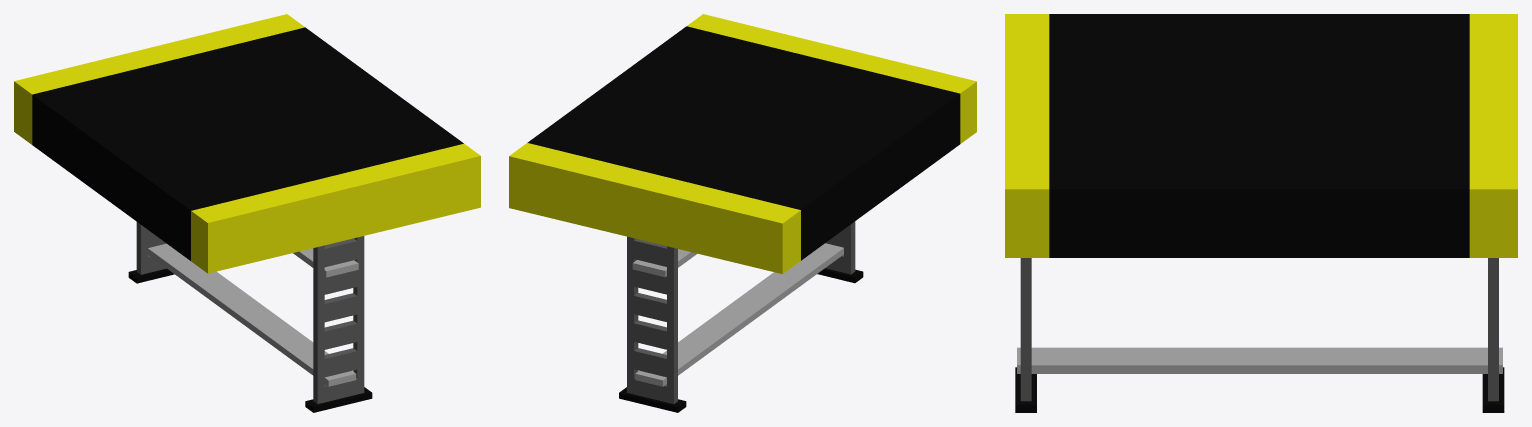
The model's file is ConveyorBeltMidWithStand.fbx.
3 renders of one model, left to right at view 1: azimuth 30°, elevation 25°; view 2: azimuth 150°, elevation 25°; view 3: azimuth 270°, elevation 25°, orthographic. The views are drawn at different scales.
Parts seen in each view (by area): view 1: polySurface49; view 2: polySurface49; view 3: polySurface49.
Part boxes in pixels (x1,y1,x2,y2): polySurface49: (14,14,480,412); polySurface49: (509,14,976,412); polySurface49: (1005,14,1517,412).
Bounding box in the file's own units: 1.78 × 1.37 × 2.19.
